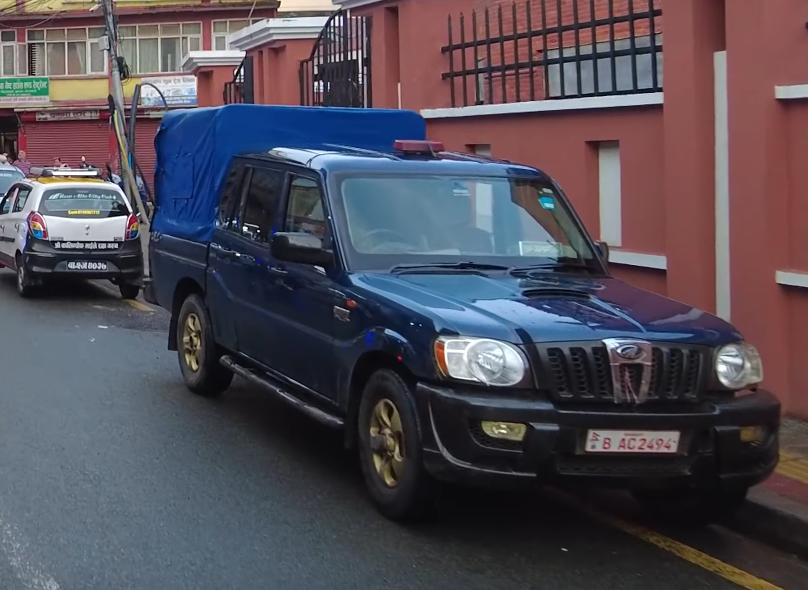police_vehicle: (145, 96, 794, 539)
taxi: (0, 164, 148, 301)
